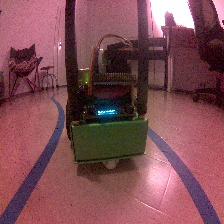rob: (64, 42, 148, 170)
